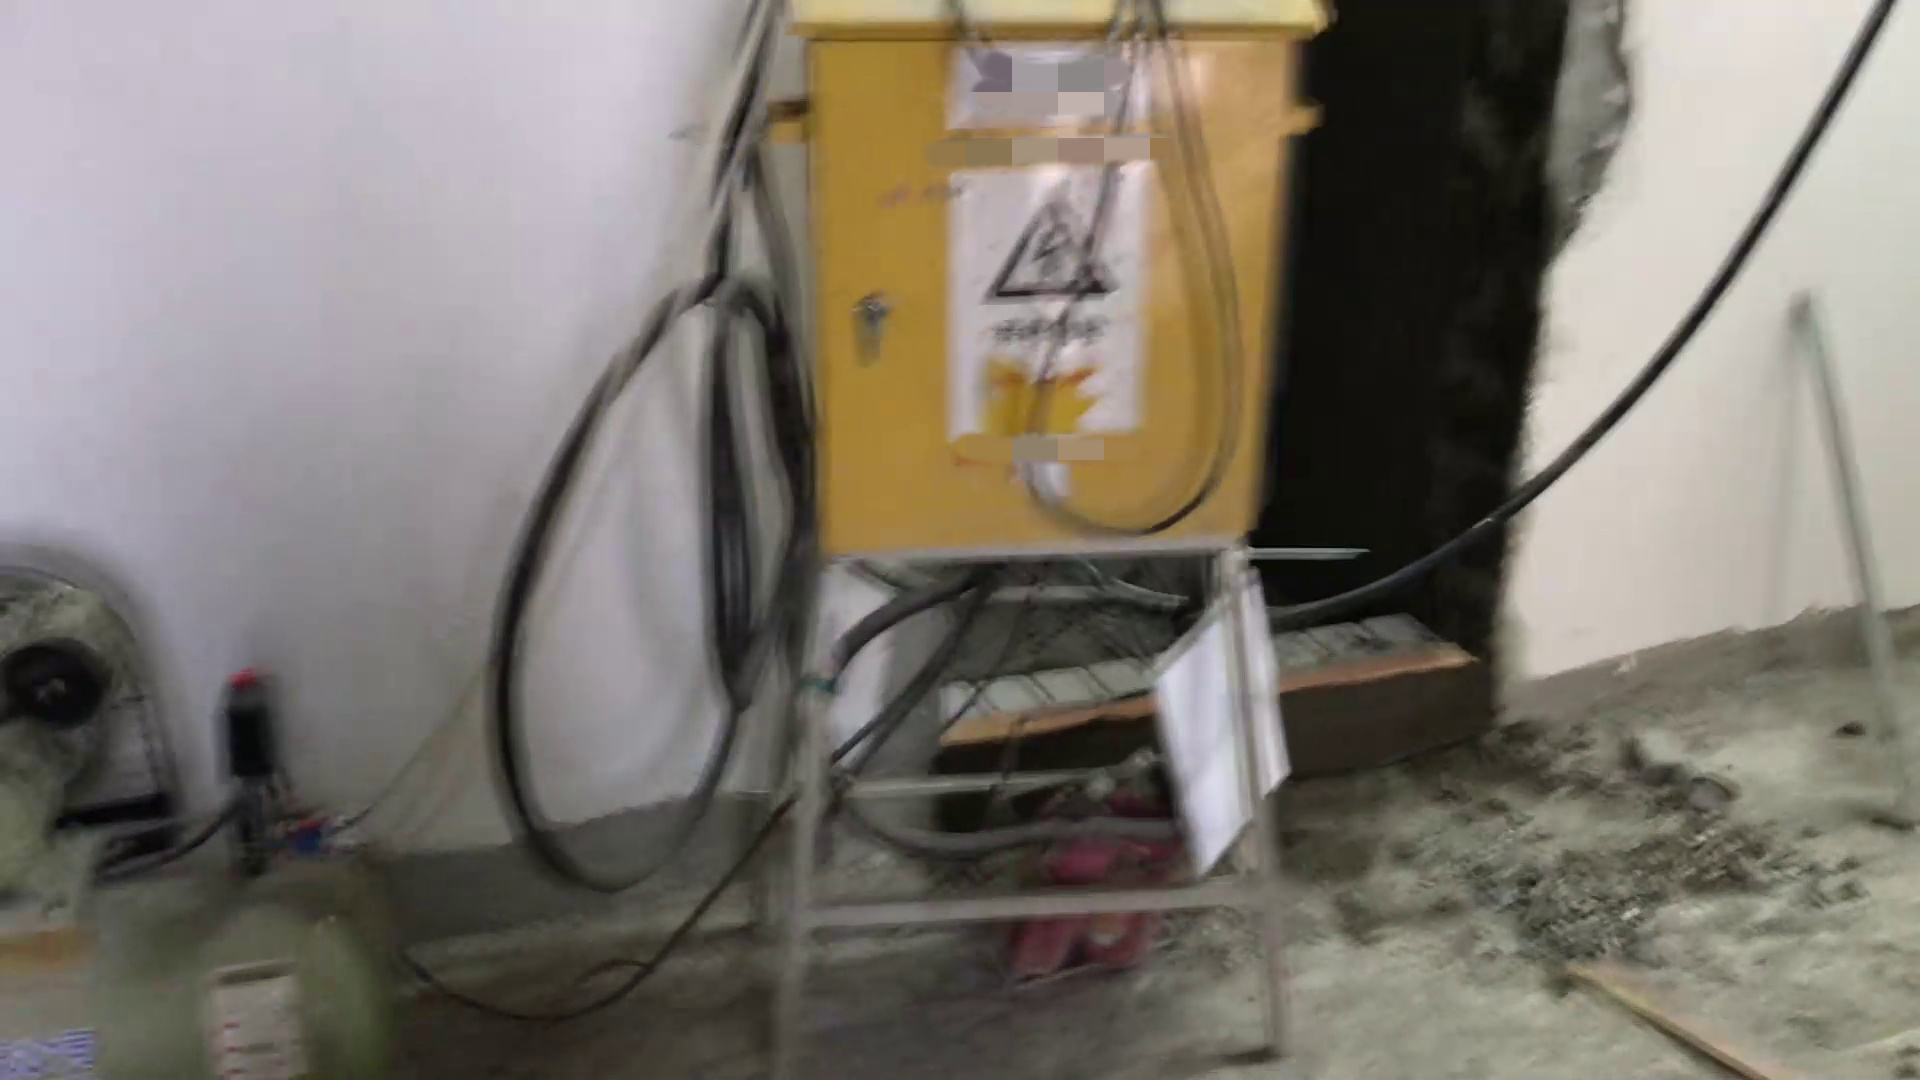ebox: (735, 4, 1352, 1064)
